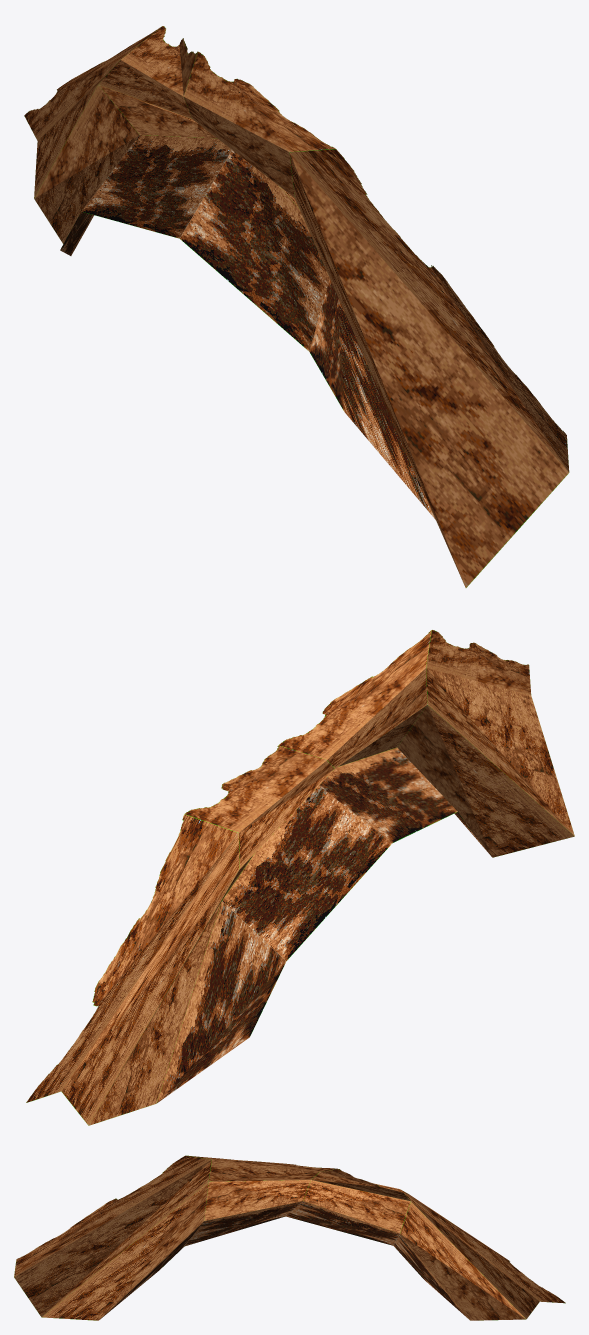
The model's file is _TR1MNT.obj.
The picture shows the model from 3 angles, top to bottom: view 1: azimuth 30°, elevation 25°; view 2: azimuth 150°, elevation 25°; view 3: azimuth 270°, elevation 25°; orthographic projection. The views are drawn at different scales.
Bounding box in the file's own units: 353 × 878 × 2651.
Materials: 1 (1 with a texture image).
